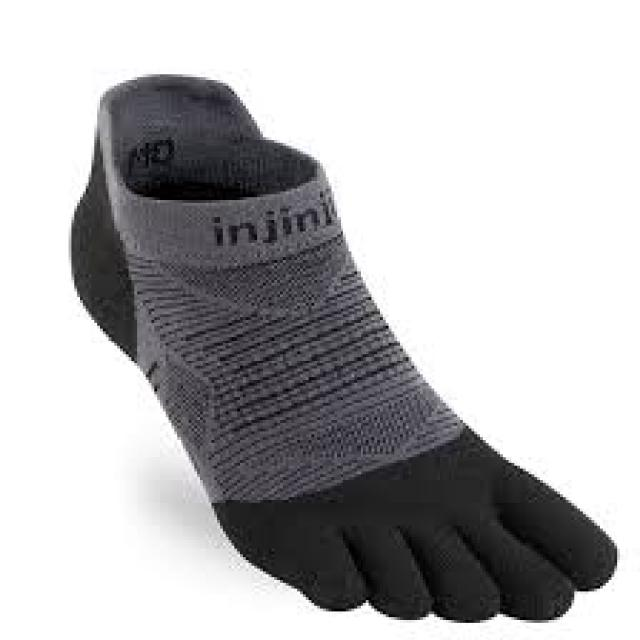sock: (69, 71, 617, 623)
